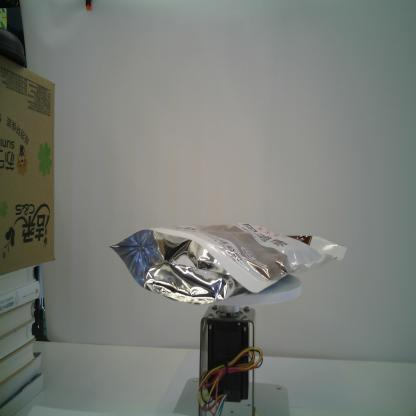Dried Food: (104, 221, 348, 307)
